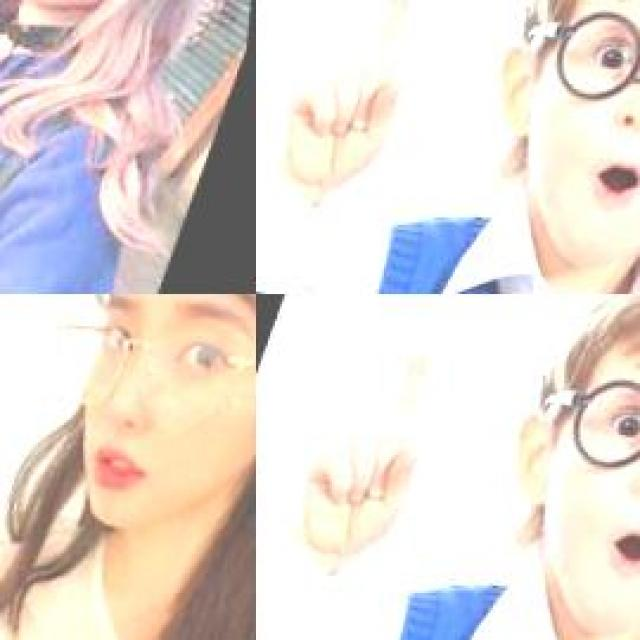Glasses: (17, 294, 254, 472), (516, 344, 638, 526), (500, 0, 638, 158)
